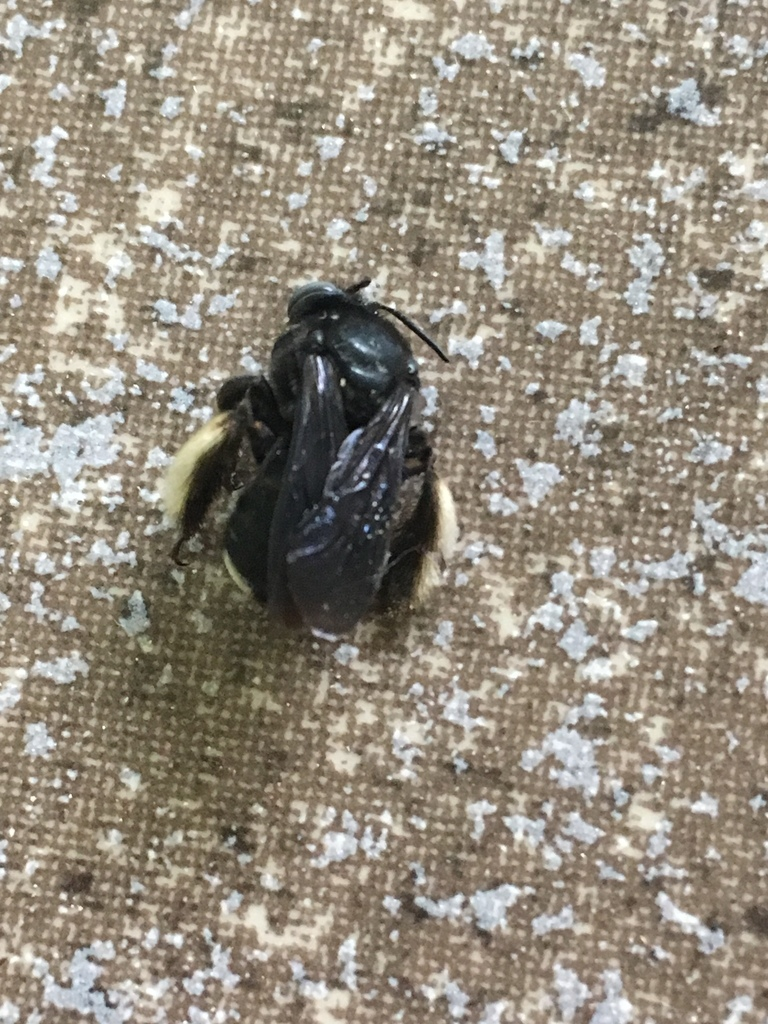not_bumblebee: (162, 274, 458, 645)
